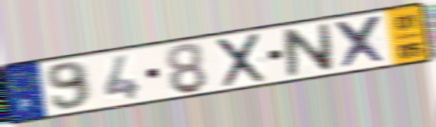4: (102, 53, 143, 102)
8: (163, 41, 210, 95)
9: (44, 59, 96, 112)
N: (280, 21, 336, 79)
X: (333, 13, 390, 71), (215, 31, 268, 90)
